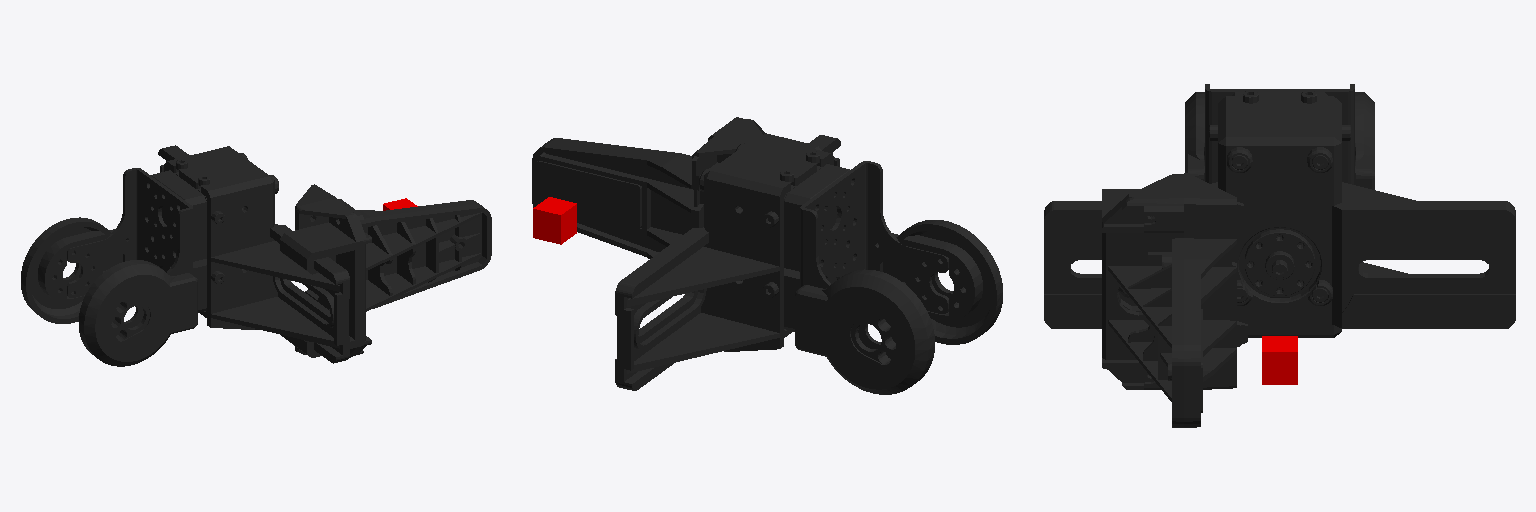
URDF robot description (open_manipulator_x):
<?xml version="1.0" ?>
<!-- =================================================================================== -->
<!-- |    This document was autogenerated by xacro from open_manipulator_x.urdf.xacro  | -->
<!-- |    EDITING THIS FILE BY HAND IS NOT RECOMMENDED                                 | -->
<!-- =================================================================================== -->
<robot name="open_manipulator_x">
  <link name="world"/>
  <joint name="world_fixed" type="fixed">
    <origin rpy="0 0 0" xyz="0 0 0"/>
    <parent link="world"/>
    <child link="link1"/>
  </joint>
  <link name="link1">
    <visual>
      <origin rpy="0 0 0" xyz="0 0 0"/>
      <geometry>
        <mesh filename="package://open_manipulator_description/meshes/open_manipulator_x/link1.stl" scale="0.001 0.001 0.001"/>
      </geometry>
      <material name="grey">
        <color rgba="0.2 0.2 0.2 1"/>
      </material>
    </visual>
    <collision>
      <origin rpy="0 0 0" xyz="0 0 0"/>
      <geometry>
        <mesh filename="package://open_manipulator_description/meshes/open_manipulator_x/link1.stl" scale="0.001 0.001 0.001"/>
      </geometry>
    </collision>
    <inertial>
      <origin xyz="3.0876154e-04 0.0000000e+00 -1.2176461e-04"/>
      <mass value="7.9119962e-02"/>
      <inertia ixx="1.2505234e-05" ixy="0.0" ixz="-1.7855208e-07" iyy="2.1898364e-05" iyz="0.0" izz="1.9267361e-05"/>
    </inertial>
  </link>
  <joint name="joint1" type="revolute">
    <parent link="link1"/>
    <child link="link2"/>
    <origin rpy="0 0 0" xyz="0.012 0.0 0.0"/>
    <axis xyz="0 0 1"/>
    <limit effort="1000" lower="-3.141592653589793" upper="3.141592653589793" velocity="4.8"/>
    <dynamics damping="0.1"/>
  </joint>
  <link name="link2">
    <visual>
      <origin rpy="0 0 0" xyz="0 0 0.019"/>
      <geometry>
        <mesh filename="package://open_manipulator_description/meshes/open_manipulator_x/link2.stl" scale="0.001 0.001 0.001"/>
      </geometry>
      <material name="grey">
        <color rgba="0.2 0.2 0.2 1"/>
      </material>
    </visual>
    <collision>
      <origin rpy="0 0 0" xyz="0 0 0.019"/>
      <geometry>
        <mesh filename="package://open_manipulator_description/meshes/open_manipulator_x/link2.stl" scale="0.001 0.001 0.001"/>
      </geometry>
    </collision>
    <inertial>
      <origin xyz="-3.0184870e-04 5.4043684e-04 0.047433463999999995"/>
      <mass value="9.8406837e-02"/>
      <inertia ixx="3.4543422e-05" ixy="-1.6031095e-08" ixz="-3.8375155e-07" iyy="3.2689329e-05" iyz="2.8511935e-08" izz="1.8850320e-05"/>
    </inertial>
  </link>
  <joint name="joint2" type="revolute">
    <parent link="link2"/>
    <child link="link3"/>
    <origin rpy="0 0 0" xyz="0.0 0.0 0.0595"/>
    <axis xyz="0 1 0"/>
    <limit effort="1000" lower="-1.5" upper="1.5" velocity="4.8"/>
    <dynamics damping="0.1"/>
  </joint>
  <link name="link3">
    <visual>
      <origin rpy="0 0 0" xyz="0 0 0"/>
      <geometry>
        <mesh filename="package://open_manipulator_description/meshes/open_manipulator_x/link3.stl" scale="0.001 0.001 0.001"/>
      </geometry>
      <material name="grey">
        <color rgba="0.2 0.2 0.2 1"/>
      </material>
    </visual>
    <collision>
      <origin rpy="0 0 0" xyz="0 0 0"/>
      <geometry>
        <mesh filename="package://open_manipulator_description/meshes/open_manipulator_x/link3.stl" scale="0.001 0.001 0.001"/>
      </geometry>
    </collision>
    <inertial>
      <origin xyz="1.0308393e-02 3.7743363e-04 1.0170197e-01"/>
      <mass value="1.3850917e-01"/>
      <inertia ixx="3.3055381e-04" ixy="-9.7940978e-08" ixz="-3.8505711e-05" iyy="3.4290447e-04" iyz="-1.5717516e-06" izz="6.0346498e-05"/>
    </inertial>
  </link>
  <joint name="joint3" type="revolute">
    <parent link="link3"/>
    <child link="link4"/>
    <origin rpy="0 0 0" xyz="0.024 0 0.128"/>
    <axis xyz="0 1 0"/>
    <limit effort="1000" lower="-1.5" upper="1.4" velocity="4.8"/>
    <dynamics damping="0.1"/>
  </joint>
  <link name="link4">
    <visual>
      <origin rpy="0 0 0" xyz="0 0 0"/>
      <geometry>
        <mesh filename="package://open_manipulator_description/meshes/open_manipulator_x/link4.stl" scale="0.001 0.001 0.001"/>
      </geometry>
      <material name="grey">
        <color rgba="0.2 0.2 0.2 1"/>
      </material>
    </visual>
    <collision>
      <origin rpy="0 0 0" xyz="0 0 0"/>
      <geometry>
        <mesh filename="package://open_manipulator_description/meshes/open_manipulator_x/link4.stl" scale="0.001 0.001 0.001"/>
      </geometry>
    </collision>
    <inertial>
      <origin xyz="9.0909590e-02 3.8929816e-04 2.2413279e-04"/>
      <mass value="1.3274562e-01"/>
      <inertia ixx="3.0654178e-05" ixy="-1.2764155e-06" ixz="-2.6874417e-07" iyy="2.4230292e-04" iyz="1.1559550e-08" izz="2.5155057e-04"/>
    </inertial>
  </link>
  <joint name="joint4" type="revolute">
    <parent link="link4"/>
    <child link="link5"/>
    <origin rpy="0 0 0" xyz="0.124 0.0 0.0"/>
    <axis xyz="0 1 0"/>
    <limit effort="1000" lower="-1.7" upper="1.97" velocity="4.8"/>
    <dynamics damping="0.1"/>
  </joint>
  <link name="link5">
    <visual>
      <origin rpy="0 0 0" xyz="0 0 0"/>
      <geometry>
        <mesh filename="package://open_manipulator_description/meshes/open_manipulator_x/link5.stl" scale="0.001 0.001 0.001"/>
      </geometry>
      <material name="grey">
        <color rgba="0.2 0.2 0.2 1"/>
      </material>
    </visual>
    <collision>
      <origin rpy="0 0 0" xyz="0 0 0"/>
      <geometry>
        <mesh filename="package://open_manipulator_description/meshes/open_manipulator_x/link5.stl" scale="0.001 0.001 0.001"/>
      </geometry>
    </collision>
    <inertial>
      <origin xyz="4.4206755e-02 3.6839985e-07 8.9142216e-03"/>
      <mass value="1.4327573e-01"/>
      <inertia ixx="8.0870749e-05" ixy="0.0" ixz="-1.0157896e-06" iyy="7.5980465e-05" iyz="0.0" izz="9.3127351e-05"/>
    </inertial>
  </link>
  <joint name="gripper_left_joint" type="prismatic">
    <parent link="link5"/>
    <child link="gripper_left_link"/>
    <origin rpy="0 0 0" xyz="0.0817 0.021 0.0"/>
    <axis xyz="0 1 0"/>
    <limit effort="1000" lower="-0.011" upper="0.02" velocity="4.8"/>
    <dynamics damping="0.1"/>
  </joint>
  <link name="gripper_left_link">
    <visual>
      <origin rpy="0 0 0" xyz="0 0 0"/>
      <geometry>
        <mesh filename="package://open_manipulator_description/meshes/open_manipulator_x/gripper_left_palm.stl" scale="0.001 0.001 0.001"/>
      </geometry>
      <material name="grey">
        <color rgba="0.2 0.2 0.2 1"/>
      </material>
    </visual>
    <collision>
      <origin rpy="0 0 0" xyz="0 0 0"/>
      <geometry>
        <mesh filename="package://open_manipulator_description/meshes/open_manipulator_x/gripper_left_palm.stl" scale="0.001 0.001 0.001"/>
      </geometry>
    </collision>
    <inertial>
      <origin xyz="0 0 0"/>
      <mass value="1.0e-03"/>
      <inertia ixx="1.0e-06" ixy="0.0" ixz="0.0" iyy="1.0e-06" iyz="0.0" izz="1.0e-06"/>
    </inertial>
  </link>
  <joint name="gripper_right_joint" type="prismatic">
    <parent link="link5"/>
    <child link="gripper_right_link"/>
    <origin rpy="0 0 0" xyz="0.0817 -0.021 0"/>
    <axis xyz="0 -1 0"/>
    <limit effort="1000" lower="-0.011" upper="0.02" velocity="4.8"/>
    <dynamics damping="0.7"/>
    <mimic joint="gripper_left_joint" multiplier="1"/>
  </joint>
  <link name="gripper_right_link">
    <visual>
      <origin rpy="0 0 0" xyz="0 0 0"/>
      <geometry>
        <mesh filename="package://open_manipulator_description/meshes/open_manipulator_x/gripper_right_palm.stl" scale="0.001 0.001 0.001"/>
      </geometry>
      <material name="grey">
        <color rgba="0.2 0.2 0.2 1"/>
      </material>
    </visual>
    <collision>
      <origin rpy="0 0 0" xyz="0 0 0"/>
      <geometry>
        <mesh filename="package://open_manipulator_description/meshes/open_manipulator_x/gripper_right_palm.stl" scale="0.001 0.001 0.001"/>
      </geometry>
    </collision>
    <inertial>
      <origin xyz="0 0 0"/>
      <mass value="1.0e-03"/>
      <inertia ixx="1.0e-06" ixy="0.0" ixz="0.0" iyy="1.0e-06" iyz="0.0" izz="1.0e-06"/>
    </inertial>
  </link>
  <joint name="end_effector_joint" type="fixed">
    <parent link="link5"/>
    <child link="end_effector_link"/>
    <origin rpy="0 0 0" xyz="0.126 0.0 0.0"/>
  </joint>
  <link name="end_effector_link">
    <visual>
      <origin rpy="0 0 0" xyz="0 0 0"/>
      <geometry>
        <box size="0.01 0.01 0.01"/>
      </geometry>
      <material name="red">
        <color rgba="1.0 0.0 0.0 1"/>
      </material>
    </visual>
  </link>
</robot>

--- What the picture shows (computed from the rendered views, not written in the file) ---
Views: 3 orthographic renders of the robot side by side, from view 1: azimuth 30°, elevation 25°; view 2: azimuth 150°, elevation 25°; view 3: azimuth 270°, elevation 25°.
Robot: open_manipulator_x — 9 links, 8 joints (4 revolute, 2 prismatic, 2 fixed); root link world; default pose: all joints at 0.
Visible links, largest first — view 1: link5, gripper_right_link; view 2: link5, gripper_right_link, end_effector_link; view 3: link5, gripper_right_link, end_effector_link.
Link boxes in pixels (x1,y1,x2,y2): link5: [21, 145, 349, 366]; gripper_right_link: [280, 184, 491, 357]; link5: [615, 135, 1002, 394]; gripper_right_link: [532, 117, 821, 258]; end_effector_link: [533, 197, 576, 244]; link5: [1044, 84, 1515, 337]; gripper_right_link: [1102, 173, 1247, 427]; end_effector_link: [1262, 336, 1297, 384].
Bounding box of the posed robot: 0.1667 × 0.1286 × 0.0687 m (x, y, z).
2 mesh visuals loaded from 7 distinct referenced files (2 binary STL); not drawn: 5 (reference not matched to a file when rendering).